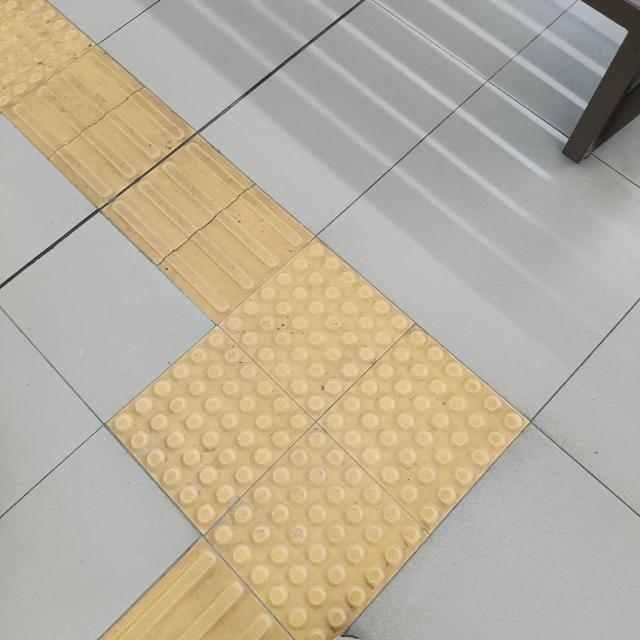kiri: (53, 50, 574, 640)
